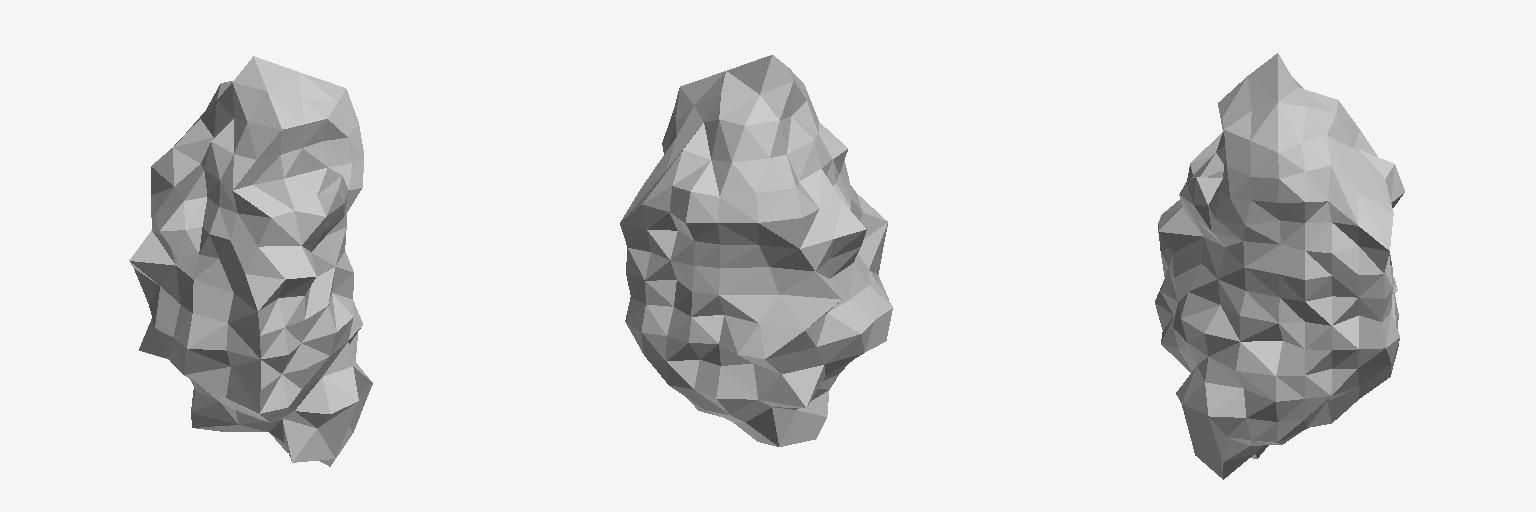
File: composition_block.03.obj
The picture shows the model from 3 angles: view 1: azimuth 30°, elevation 25°; view 2: azimuth 150°, elevation 25°; view 3: azimuth 270°, elevation 25°; orthographic projection.
Parts seen in each view (by area): view 1: compositing_block..03_Cube.003; view 2: compositing_block..03_Cube.003; view 3: compositing_block..03_Cube.003.
Part boxes in pixels (x1,y1,x2,y2): compositing_block..03_Cube.003: (129, 56, 372, 466); compositing_block..03_Cube.003: (620, 55, 892, 446); compositing_block..03_Cube.003: (1155, 53, 1404, 479).
Bounding box in the file's own units: 1.43 × 2.75 × 1.55.